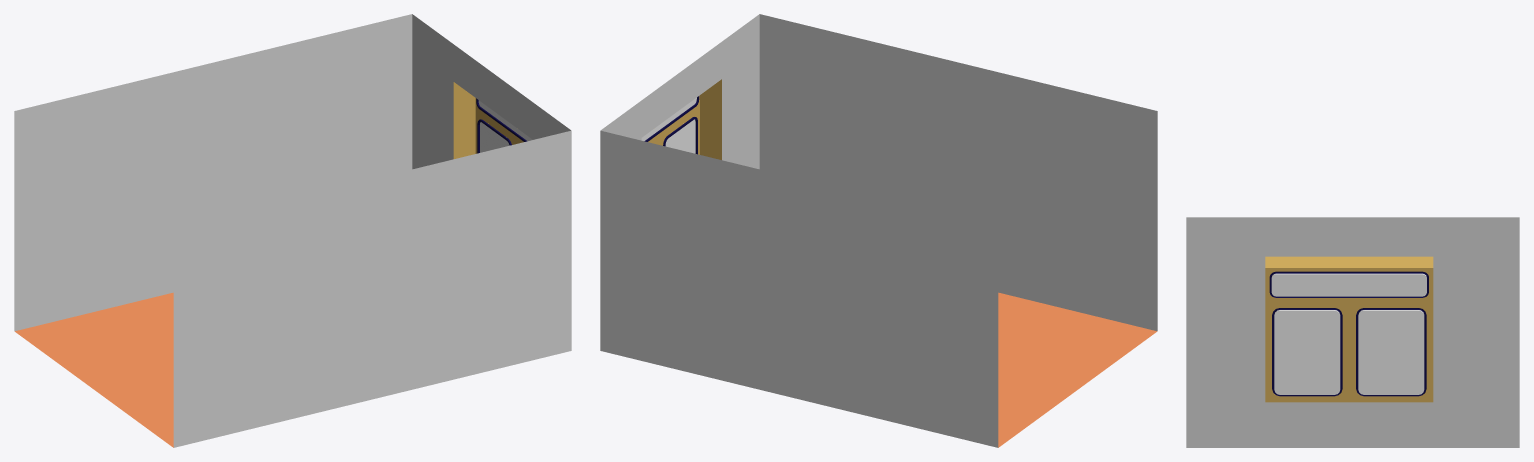
The model's file is roomWindows-transformed.glb.
The picture shows the model from 3 angles, left to right: view 1: azimuth 30°, elevation 25°; view 2: azimuth 150°, elevation 25°; view 3: azimuth 270°, elevation 25°; orthographic projection. The views are drawn at different scales.
Parts seen in each view (by area): view 1: Room, RoomFloor, Window, GlassPane; view 2: Room, RoomFloor, Window, GlassPane; view 3: Room, GlassPane, Window.
Part boxes in pixels (box(x1,y1,x2,y2)): Room: box(14, 14, 571, 447); RoomFloor: box(15, 292, 173, 447); Window: box(453, 82, 527, 158); GlassPane: box(478, 100, 532, 152); Room: box(600, 14, 1157, 447); RoomFloor: box(998, 292, 1156, 447); Window: box(644, 79, 721, 159); GlassPane: box(641, 97, 696, 153); Room: box(1186, 217, 1519, 447); GlassPane: box(1271, 273, 1426, 394); Window: box(1265, 256, 1433, 402).
Bounding box in the file's own units: 474 × 237 × 310.
